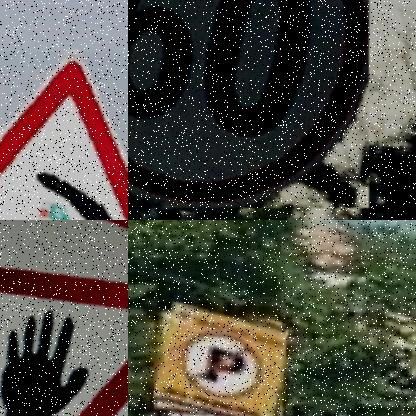Left bend: (0, 52, 128, 220)
No Parking: (156, 305, 286, 416)
Speed Limit -60 kmph-: (128, 0, 368, 208)
Stop: (0, 220, 128, 416)
